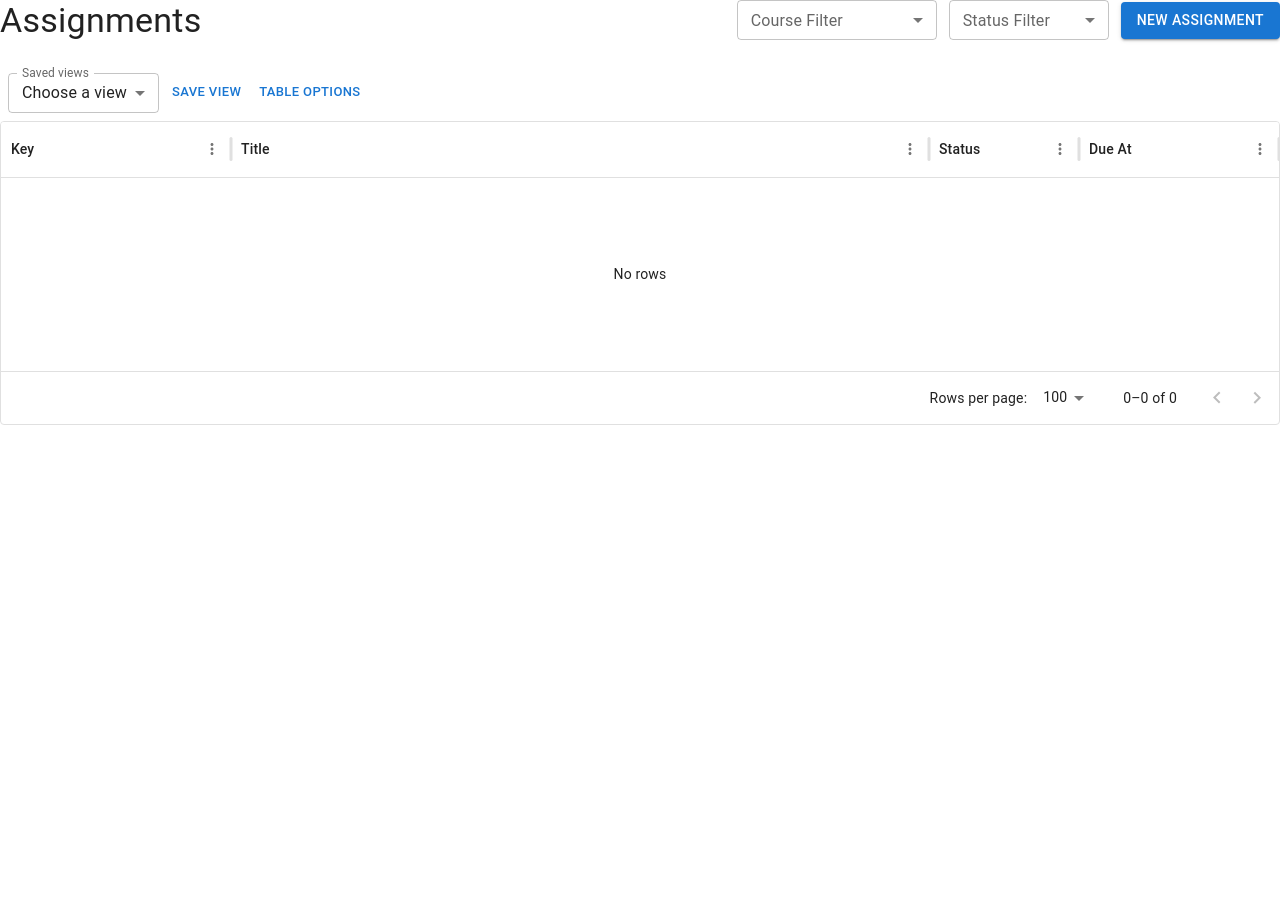
Scenario: the instructor pages › names every choice in the assignment dialog
Click the button "New Assignment". click: click(1200, 20)
box: [1121,2,1279,39]
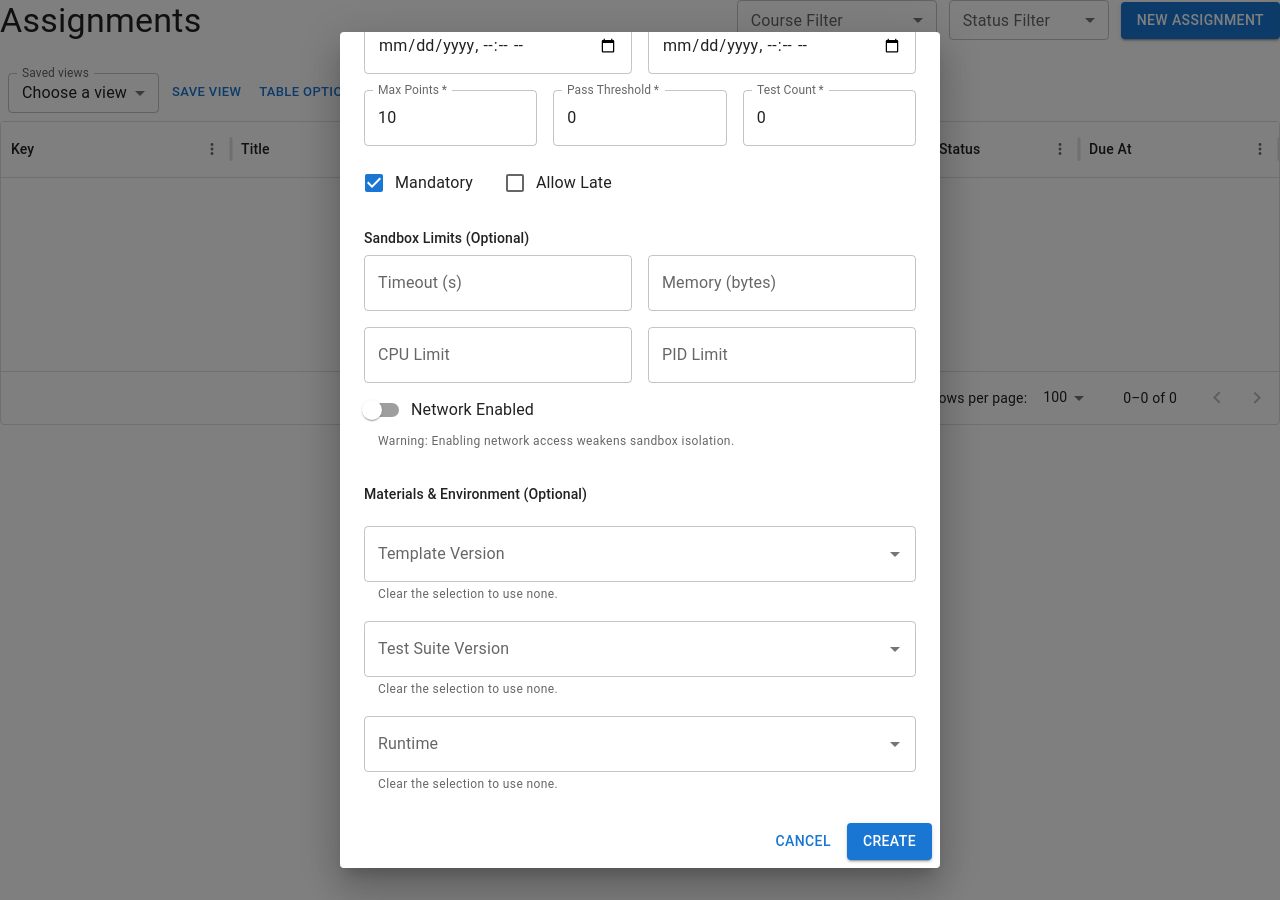
Expected: the dropdown labelled "Template Version" is shown, [373,535,877,573]
Expected: the dropdown labelled "Test Suite Version" is shown, [373,630,877,668]
Expected: the dropdown labelled "Runtime" is shown, [373,725,877,763]
